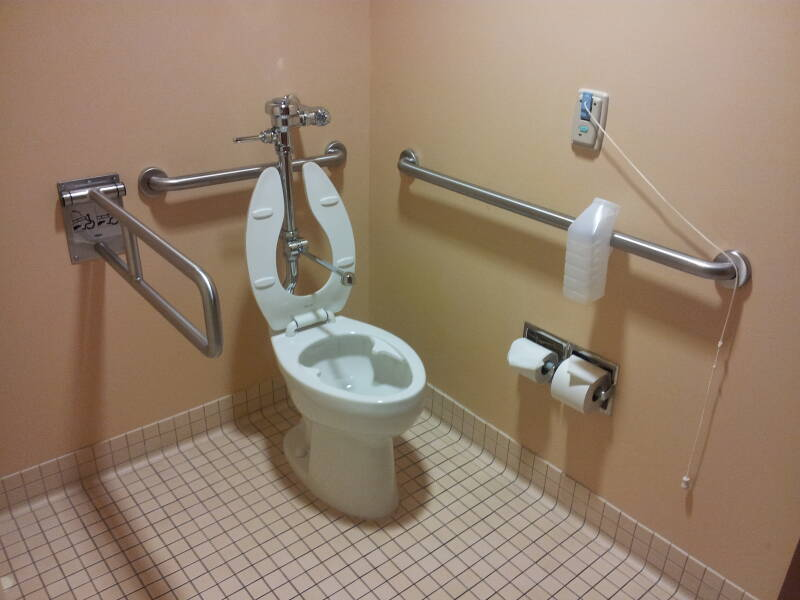dispenser: (553, 346, 620, 420), (501, 324, 571, 387)
restroom_assist_bar: (396, 147, 754, 291), (61, 187, 225, 360), (138, 141, 353, 193)
toilet: (244, 158, 428, 521)
toilet_handle: (232, 129, 280, 149)
